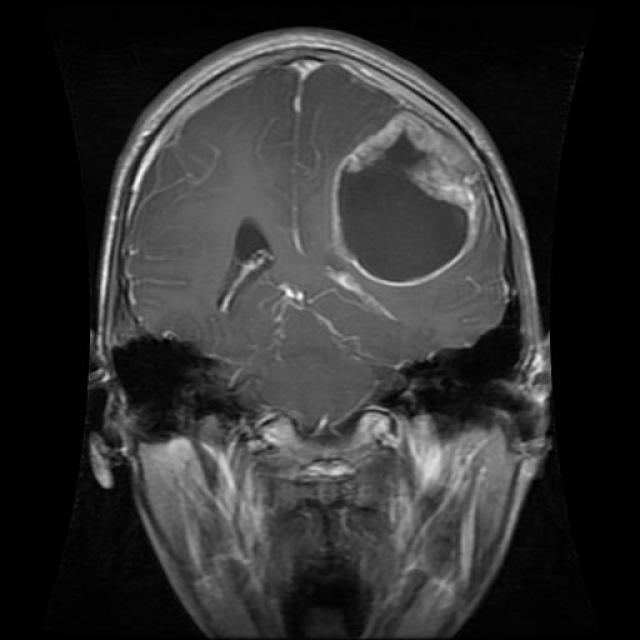glioma: (331, 109, 479, 289)
